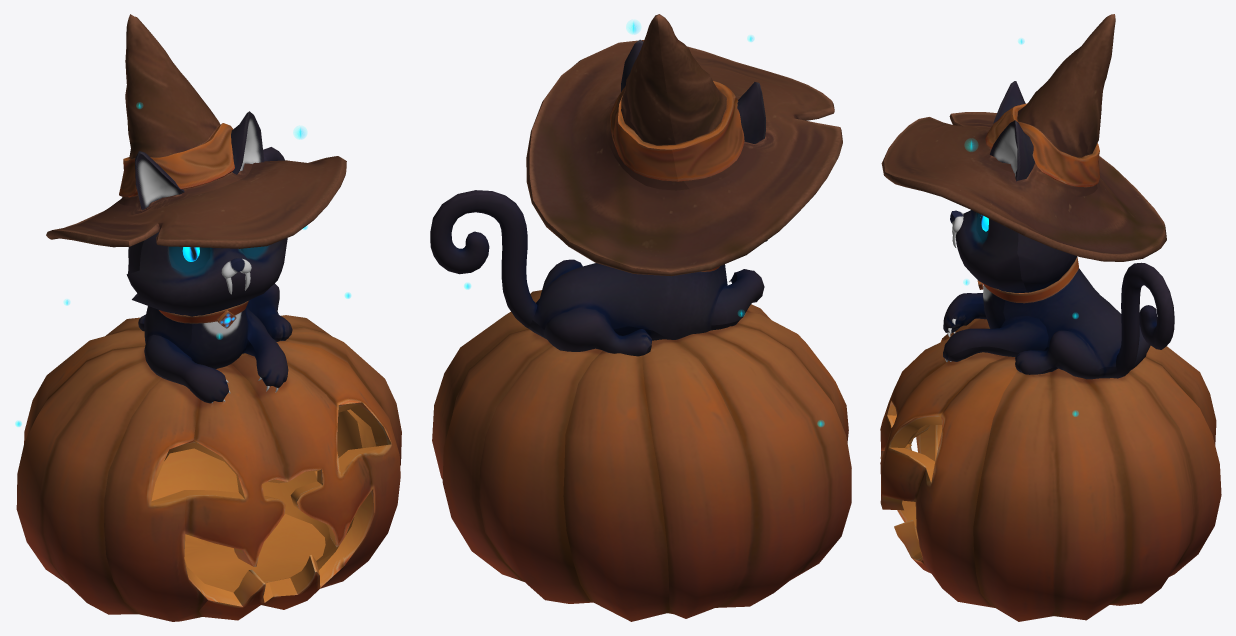
File: cat.glb
The picture shows the model from 3 angles, left to right: view 1: azimuth 30°, elevation 25°; view 2: azimuth 150°, elevation 25°; view 3: azimuth 270°, elevation 25°; orthographic projection. The views are drawn at different scales.
Visible parts, largest first — view 1: Object_2; view 2: Object_2; view 3: Object_2.
Boxes of the visible parts, bbox=[...] form: Object_2: bbox=[16, 14, 401, 621]; Object_2: bbox=[430, 14, 851, 621]; Object_2: bbox=[880, 14, 1221, 621].
Bounding box in the file's own units: 297 × 447 × 255.
Materials: 2 (2 with a texture image).
